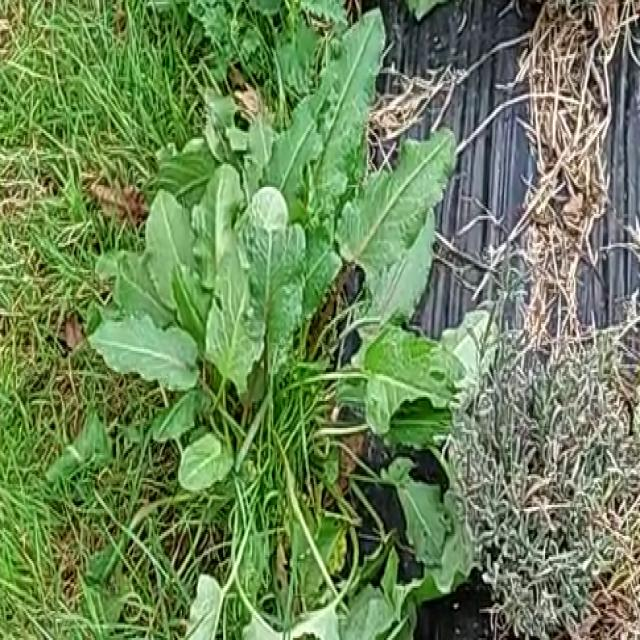organic waste: (51, 16, 494, 574)
